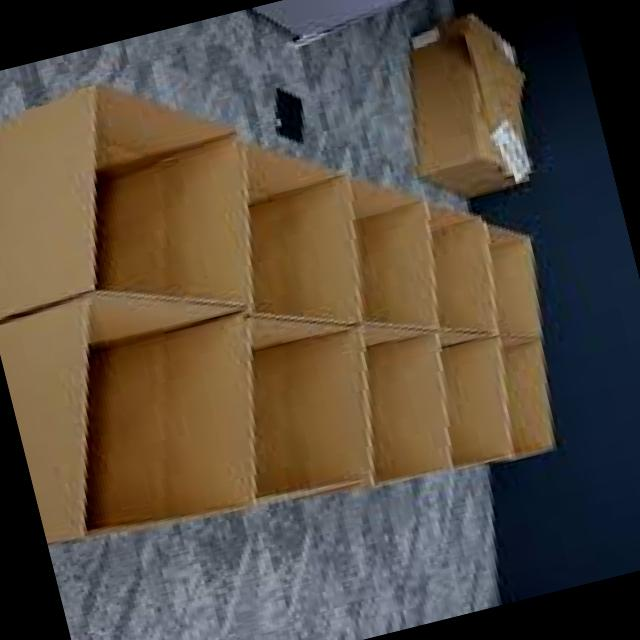cardboard: (0, 292, 254, 541), (0, 86, 250, 319), (249, 316, 372, 501), (409, 14, 523, 197), (244, 144, 360, 323), (362, 324, 451, 484), (350, 179, 437, 327), (439, 330, 512, 467), (428, 205, 497, 333), (500, 336, 554, 458), (486, 224, 540, 337)
paper: (489, 119, 529, 180)
